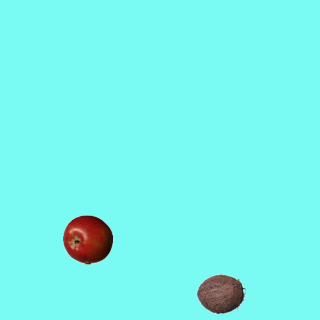Apple Braeburn: (62, 214, 112, 264)
Cocos: (195, 268, 245, 318)
